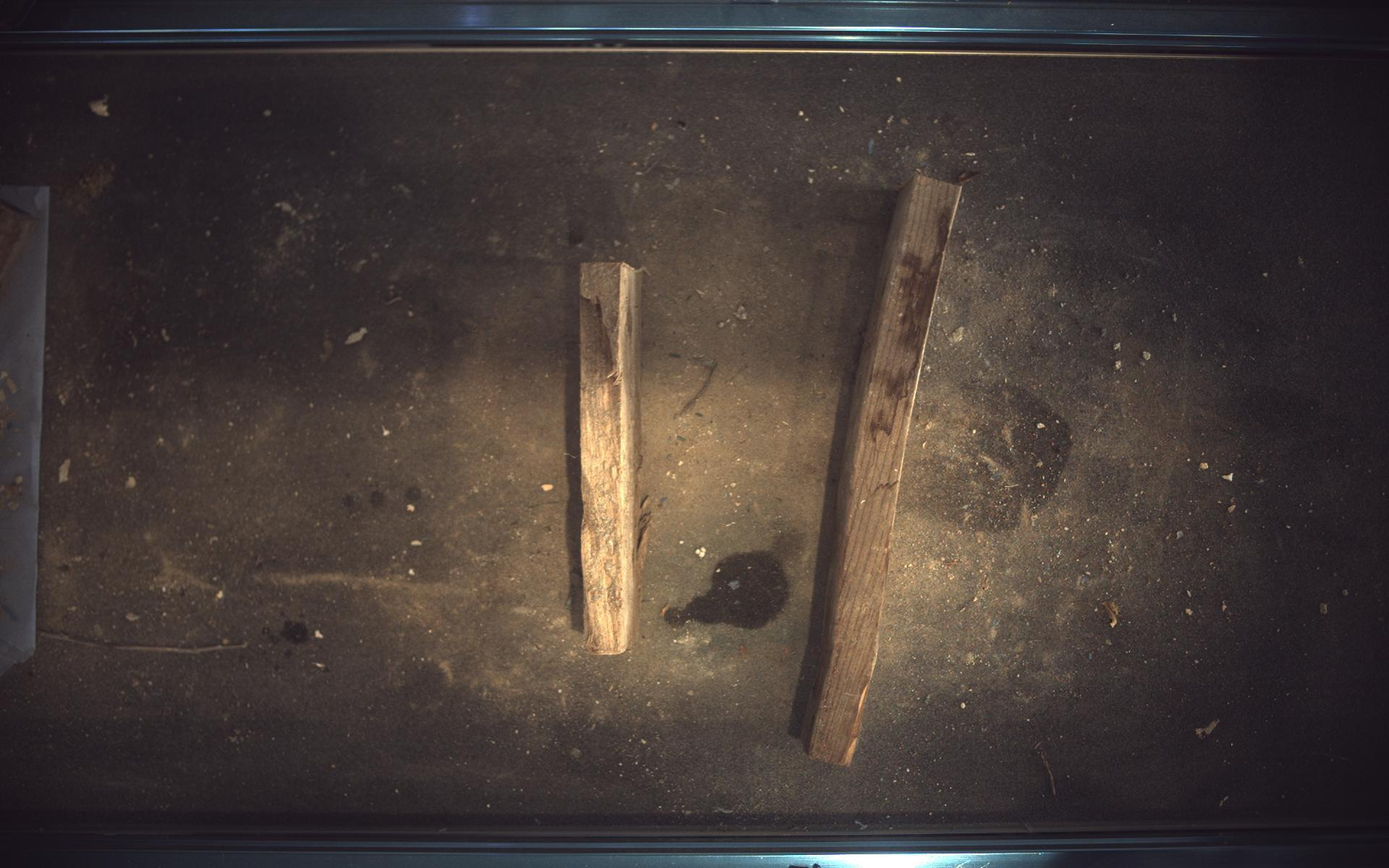wood: (803, 172, 964, 767), (580, 262, 642, 655)
